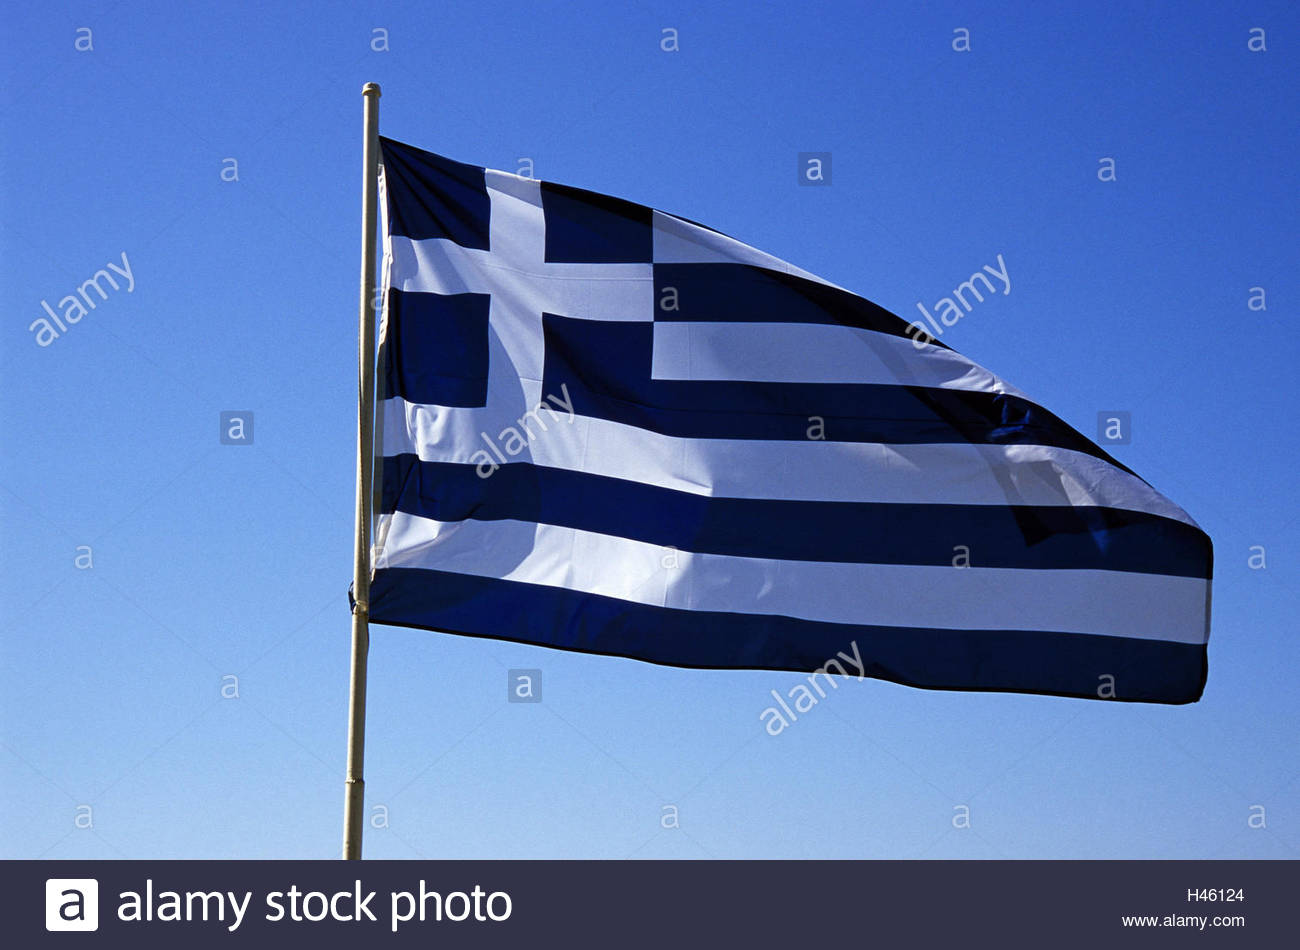Flag: (373, 135, 1210, 705)
